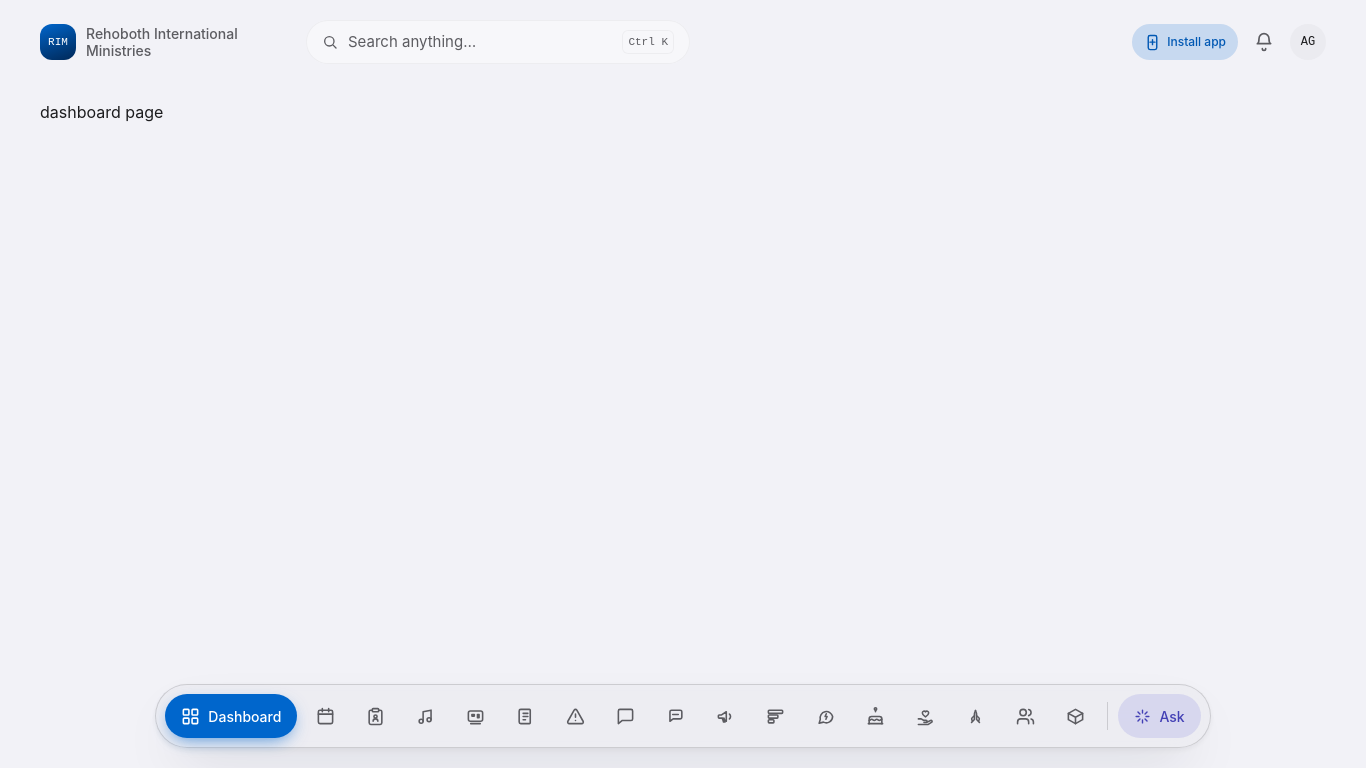
it: AppShell dock › moves the label when you navigate
This screenshot has width=1366, height=768.
Click the link named "Messages" at (625, 716), box [616,706,635,726]
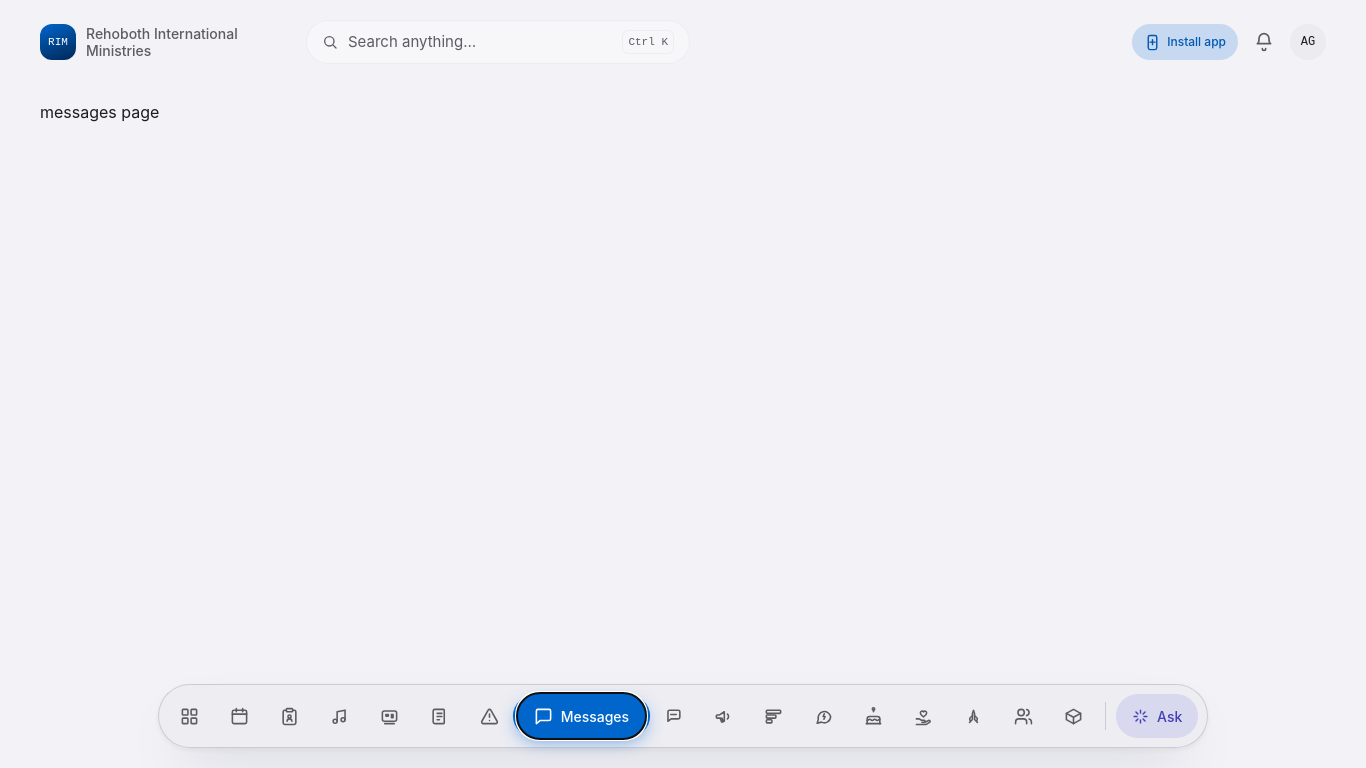
Expected: the text "messages page" is shown, [40,102,159,122]
Expected: the navigation bar named "Main" shows "Messages", [518,694,645,738]
Expected: the navigation bar named "Main" no longer shows "dashboard", [158,684,1208,748]
